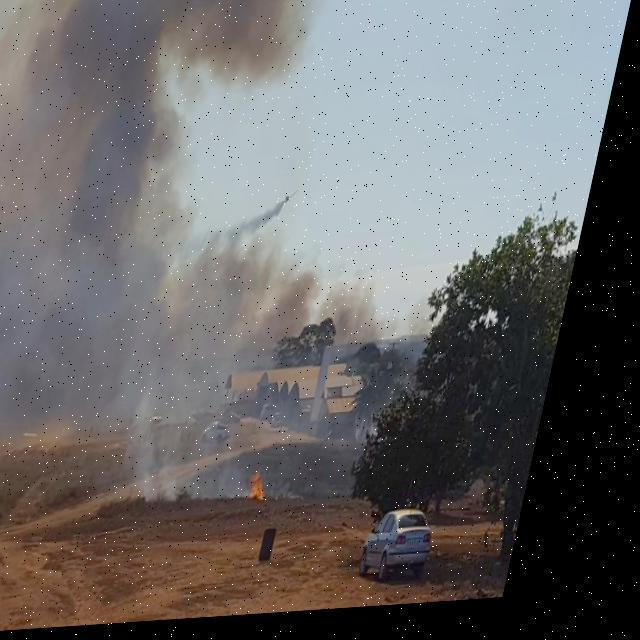Fire: (268, 471, 292, 508)
